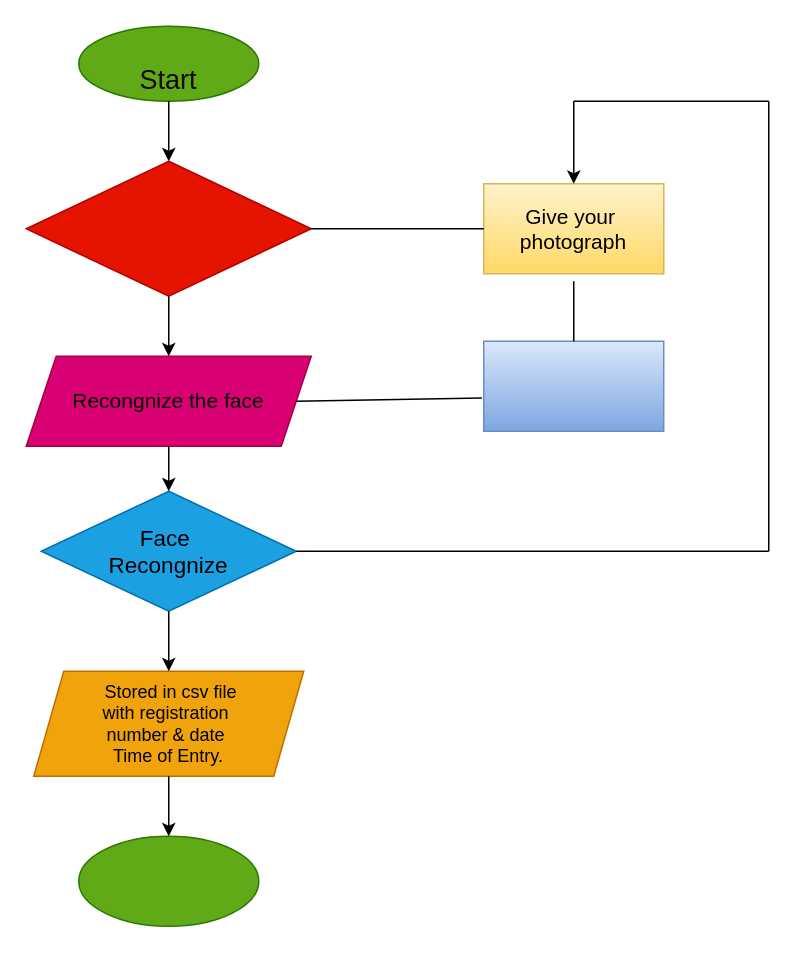
This 797x953 diagram has some shape labels left out. Here are the shapes that lost their labels. From the top down, the centre of each, then its label:
At point (168, 228): "New user?".
At point (573, 385): "Store the face data in folder on your name".
At point (168, 880): "End".
